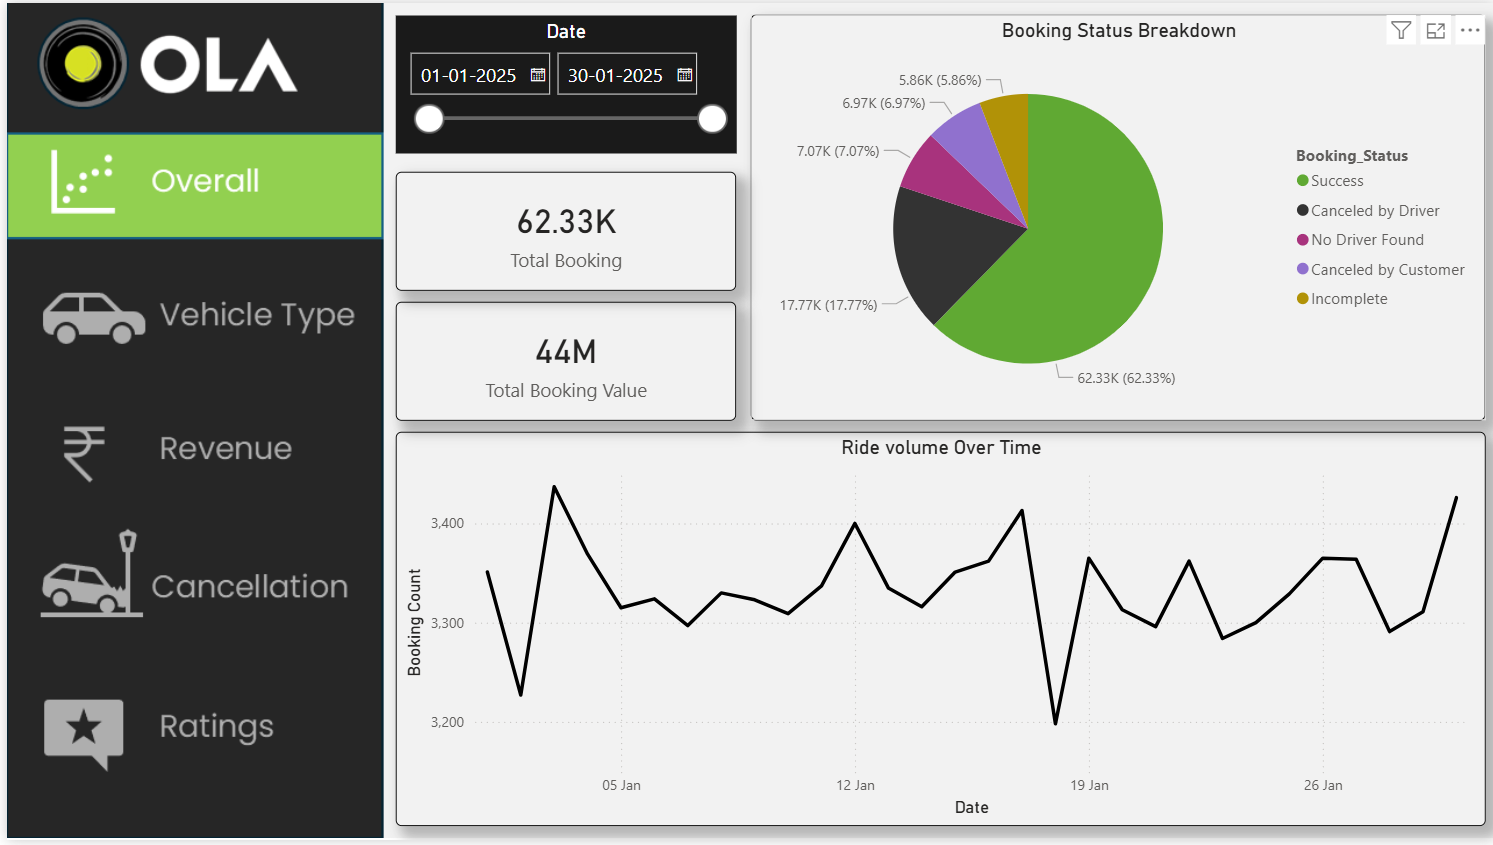

Layout of this report page (visuals, bound fields, positions):
{"tool":"powerbi","page":{"name":"Overall","canvas":[1280,720],"ordinal":0},"visuals":[{"type":"textbox","box":[0,225,323.8,87.8],"z":0},{"type":"textbox","box":[0,337.6,323.8,90.6],"z":1000},{"type":"textbox","box":[0,448.7,323.8,89.2],"z":2000},{"type":"textbox","box":[0,581.8,323.8,86.4],"z":3000},{"type":"lineChart","title":"Ride volume Over Time","fields":{"Category":["Ride_Data.Date"],"Y":["CountNonNull(Ride_Data.Booking_ID)"]},"box":[334.2,369.2,937.4,339],"z":4000},{"type":"pieChart","title":"Booking Status Breakdown","fields":{"Category":["Ride_Data.Booking_Status"],"Y":["CountNonNull(Ride_Data.Booking_Status)"]},"box":[639.4,9.7,632.2,349.9],"z":5000},{"type":"slicer","title":"Date","fields":{"Values":["Ride_Data.Date"]},"box":[334.2,10.9,293.2,118.2],"z":6000},{"type":"card","title":"Booking Status Breakdown","fields":{"Values":["CountNonNull(Ride_Data.Booking_ID)"]},"box":[334.2,144.8,293.2,102.5],"z":7000},{"type":"card","title":"Booking Status Breakdown","fields":{"Values":["Sum(Ride_Data.Booking_Value)"]},"box":[334.2,257,293.2,102.5],"z":8000}]}

Visuals, with their boxes in screenshot pixels (x1, y1, x2, y2), scaled from the page's 1280x720 canvas onto the 1493x845 screenshot:
textbox: bbox=(0, 264, 378, 367)
textbox: bbox=(0, 396, 378, 503)
textbox: bbox=(0, 527, 378, 631)
textbox: bbox=(0, 683, 378, 784)
"Ride volume Over Time" lineChart: bbox=(390, 433, 1483, 831)
"Booking Status Breakdown" pieChart: bbox=(746, 11, 1483, 422)
"Date" slicer: bbox=(390, 13, 732, 152)
"Booking Status Breakdown" card: bbox=(390, 170, 732, 290)
"Booking Status Breakdown" card: bbox=(390, 302, 732, 422)
